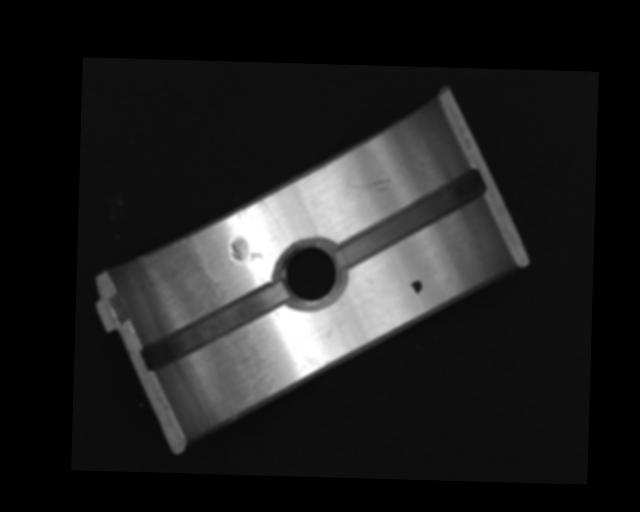blot: (410, 279, 422, 295)
bruise: (229, 235, 264, 263)
gap: (338, 166, 483, 272), (143, 280, 287, 373)
hole: (276, 237, 343, 311)
nick: (344, 176, 391, 193)
